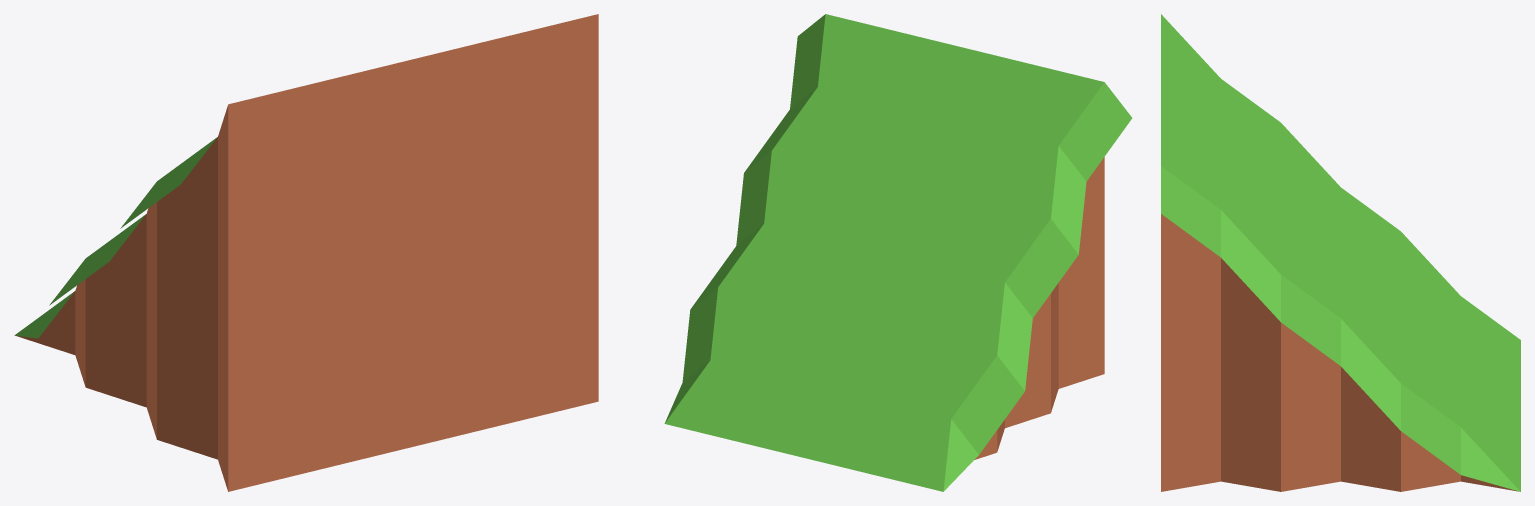
The model's file is cliff_blockSlope_rock.glb.
3 views of the same model, side by side, from view 1: azimuth 30°, elevation 25°; view 2: azimuth 150°, elevation 25°; view 3: azimuth 270°, elevation 25° (orthographic). The views are drawn at different scales.
Parts seen in each view (by area): view 1: cliff_blockSlope_rock; view 2: cliff_blockSlope_rock; view 3: cliff_blockSlope_rock.
Part boxes in pixels (bbox=[...]): cliff_blockSlope_rock: bbox=[14, 14, 598, 491]; cliff_blockSlope_rock: bbox=[664, 14, 1132, 491]; cliff_blockSlope_rock: bbox=[1161, 14, 1520, 491].
Bounding box in the file's own units: 1.2 × 1 × 1.
